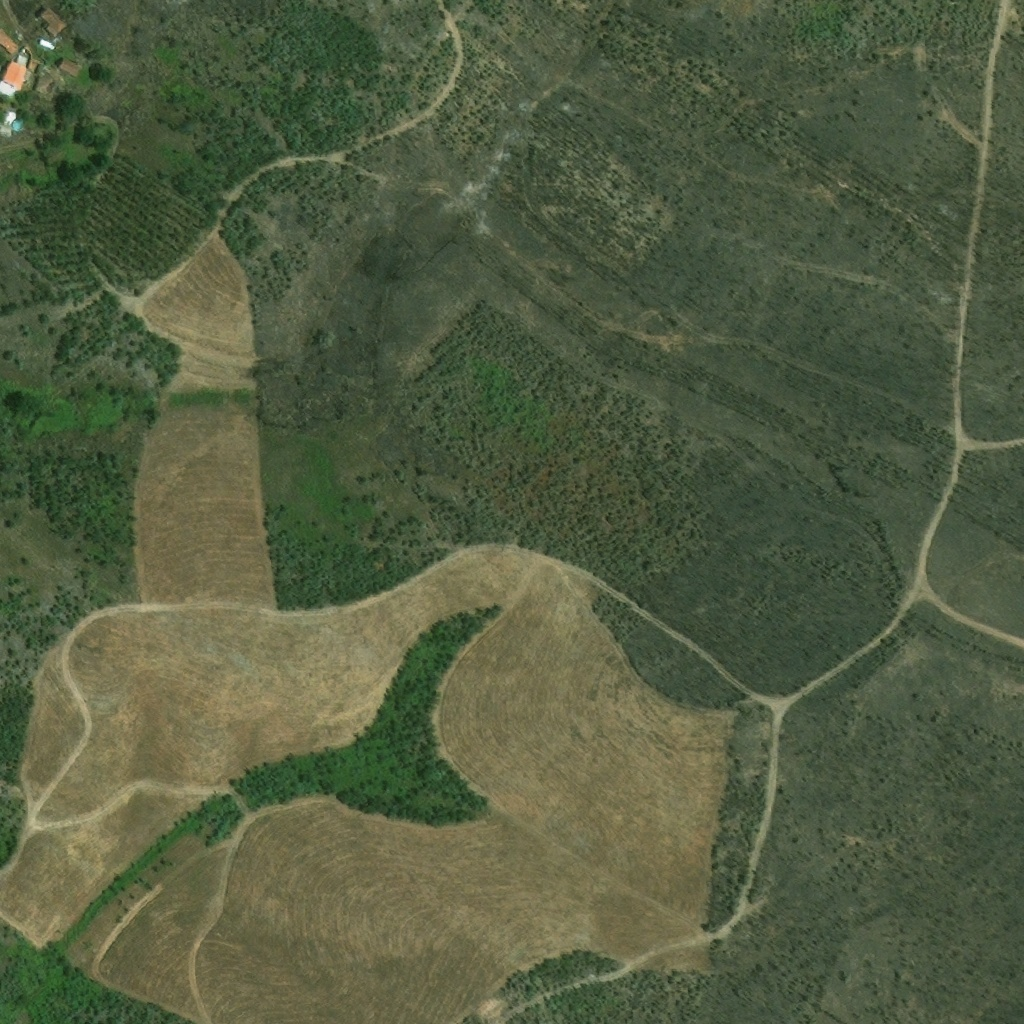0 no-damage: (0, 54, 32, 97), (40, 6, 68, 36), (0, 26, 21, 59), (58, 57, 81, 77)
4 un-classified: (0, 94, 5, 106)
